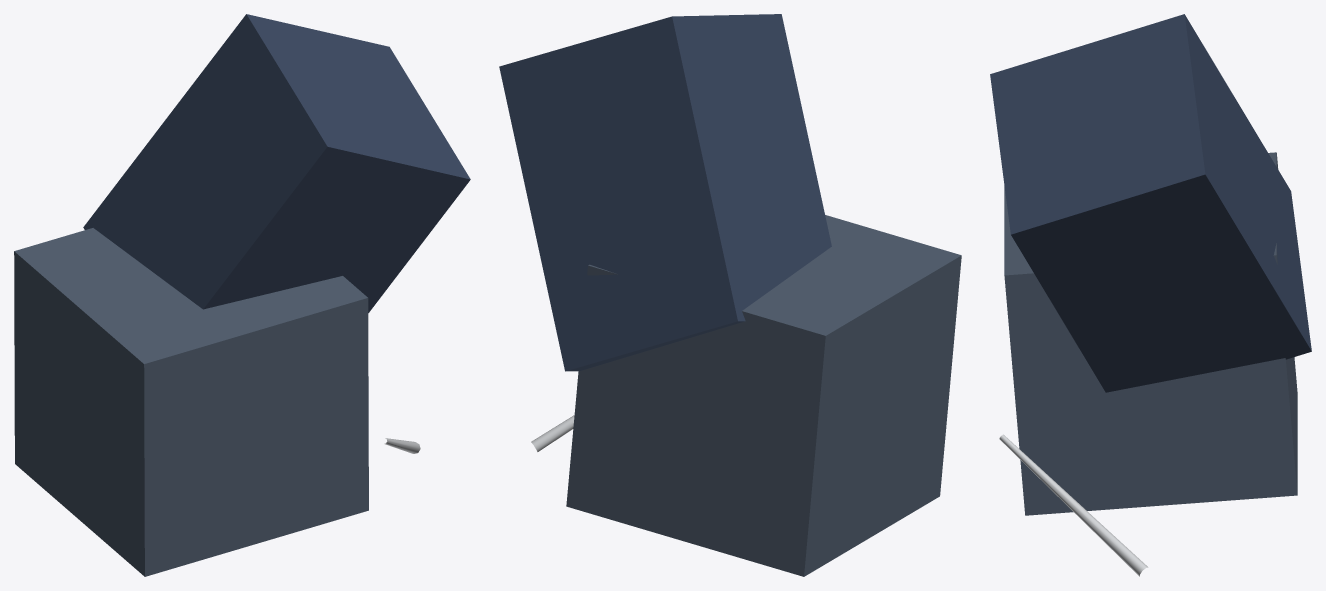
Rendered from skyscraper-wreck.glb.
3 renders of one model, left to right at view 1: azimuth 30°, elevation 25°; view 2: azimuth 150°, elevation 25°; view 3: azimuth 270°, elevation 25°, orthographic. The views are drawn at different scales.
Parts seen in each view (by area): view 1: Root; view 2: Root; view 3: Root.
Boxes of the visible parts, x1,y1,x2,y2 form: Root: (14, 14, 470, 576); Root: (499, 14, 961, 576); Root: (990, 14, 1311, 576).
Size of the model in its own units: 16 by 20.77 by 12.37.
